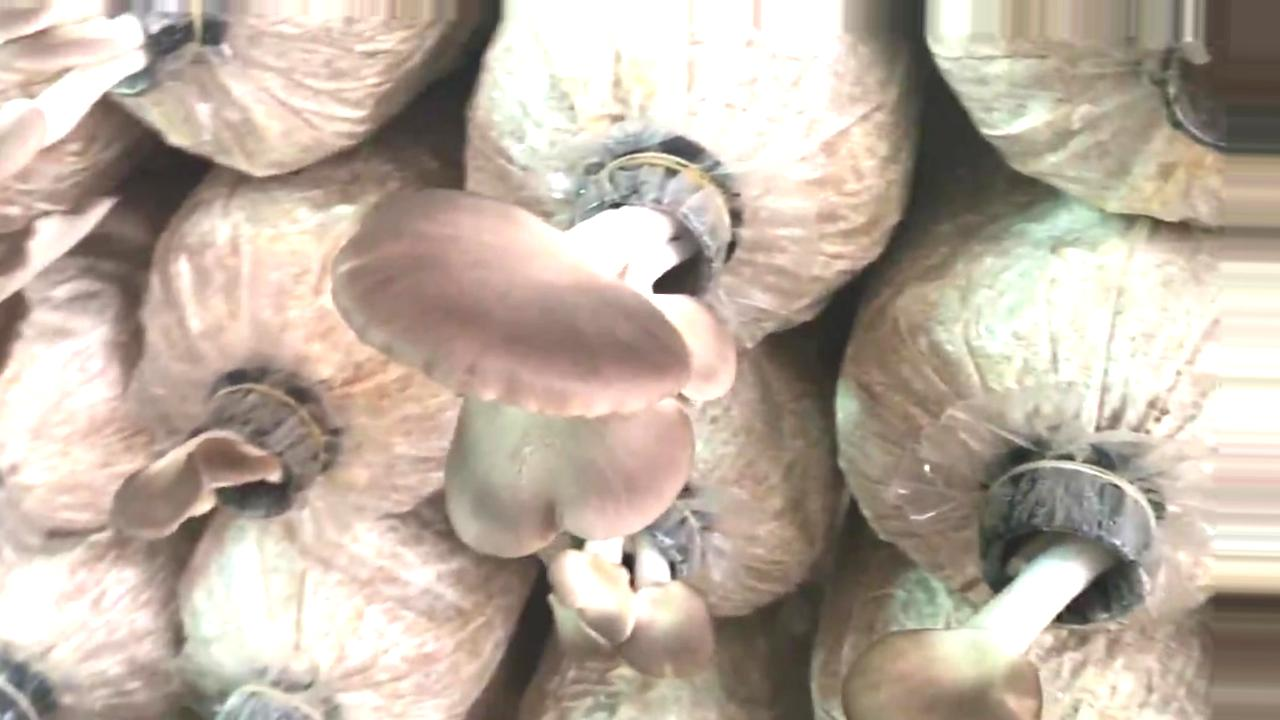nam: (330, 160, 735, 555), (843, 467, 1161, 720), (1, 1, 210, 188), (112, 385, 316, 539), (546, 510, 714, 682)
